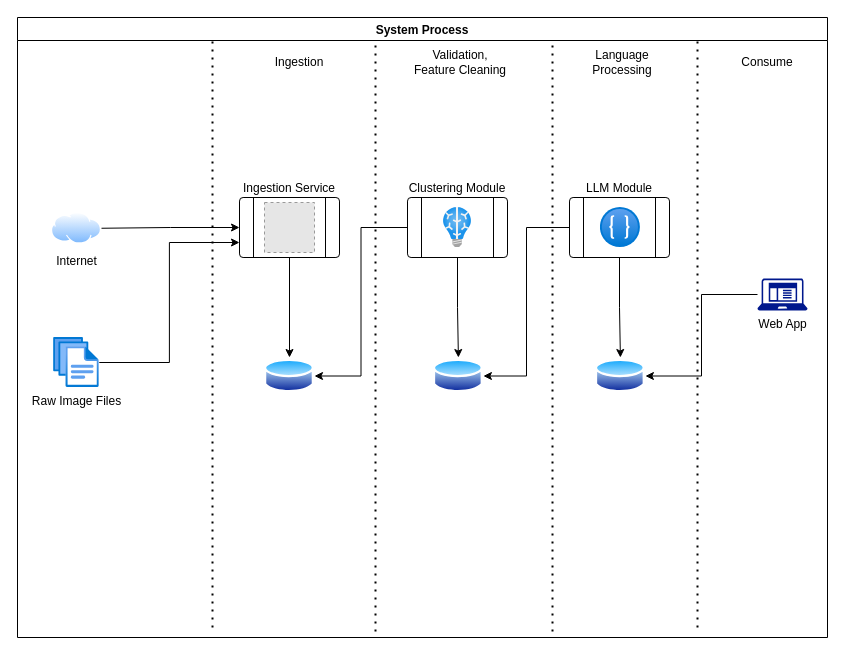
This 845x655 diagram has some shape labels left out. Grey dashed boxes stand in for pictures. Each missing label, with the centre of its shape:
Model Results: (620,375)
Raw Data + Metadata: (289,375)
Validated Data: (458,375)
